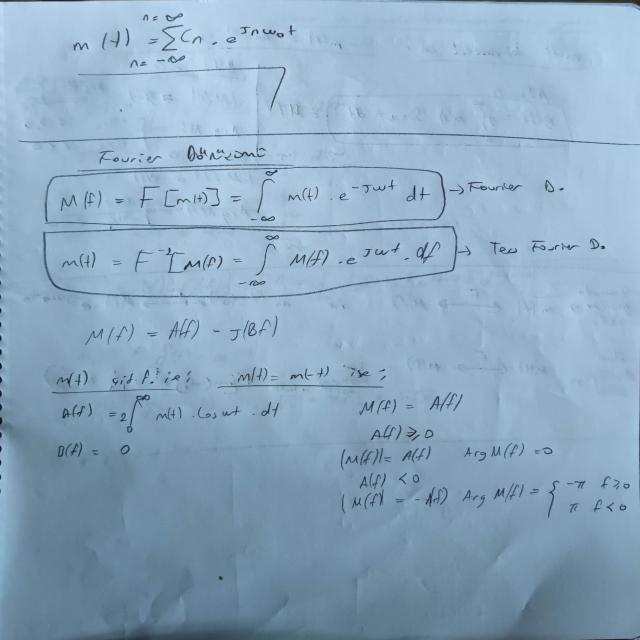math: (48, 230, 445, 292), (56, 175, 438, 222), (62, 11, 304, 71), (54, 392, 291, 434), (76, 311, 290, 354), (340, 480, 531, 515), (536, 474, 638, 524), (225, 362, 386, 388), (348, 391, 466, 416), (334, 444, 438, 468), (462, 440, 554, 466), (365, 422, 436, 445), (355, 470, 420, 488)
text: (89, 144, 275, 164), (488, 234, 614, 256)
